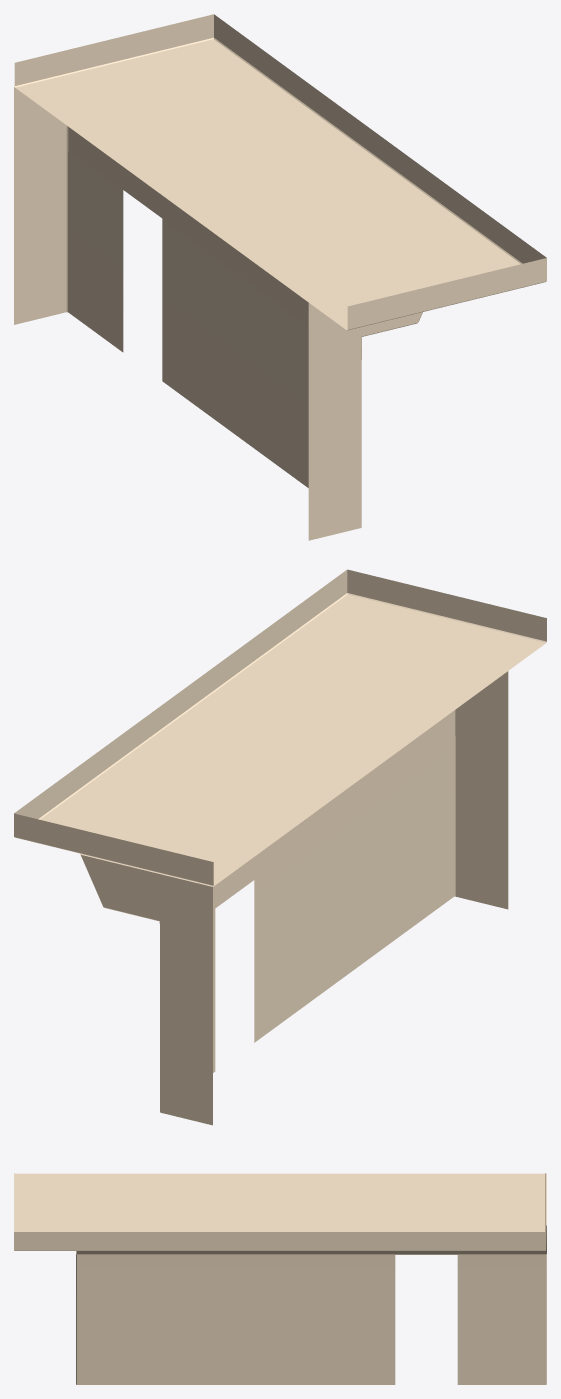
The model's file is Kitchen_Area_Group.fbx.
3 views of the same model, one above another, from view 1: azimuth 30°, elevation 25°; view 2: azimuth 150°, elevation 25°; view 3: azimuth 270°, elevation 25° (orthographic). The views are drawn at different scales.
Parts seen in each view (by area): view 1: Kitchen_Area_Group; view 2: Kitchen_Area_Group; view 3: Kitchen_Area_Group.
Part boxes in pixels (x1,y1,x2,y2): Kitchen_Area_Group: (14,14,546,540); Kitchen_Area_Group: (14,569,546,1125); Kitchen_Area_Group: (14,1173,546,1384).
Bounding box in the file's own units: 3.66 × 4.6 × 10.59.
